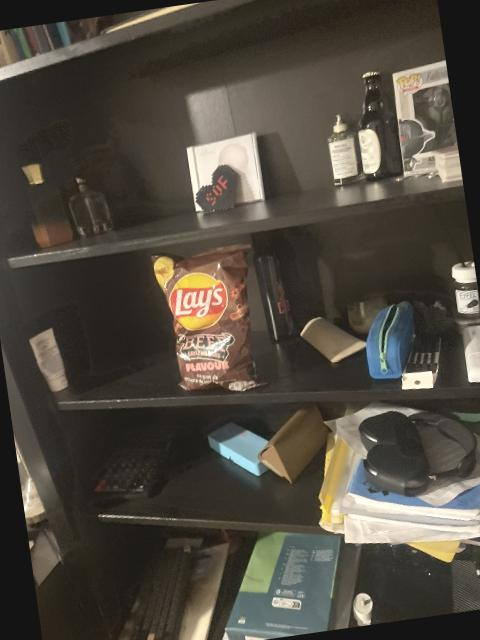Lays Beef Grilled Ribs 125g: (150, 242, 269, 399)
